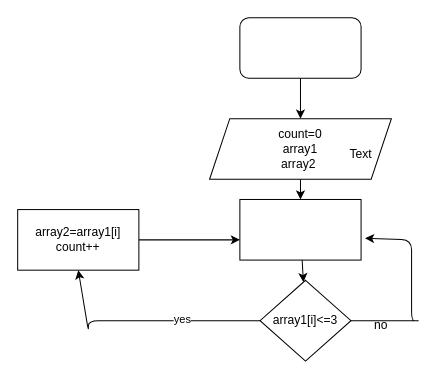
The diagram is 447 pixels wide and 379 high, and some of its shapes have lost their labels. Each missing label, with the centre of its shape:
"i=0 i< array1Length i++" belongs at point (300, 229).
"Start" belongs at point (300, 47).
